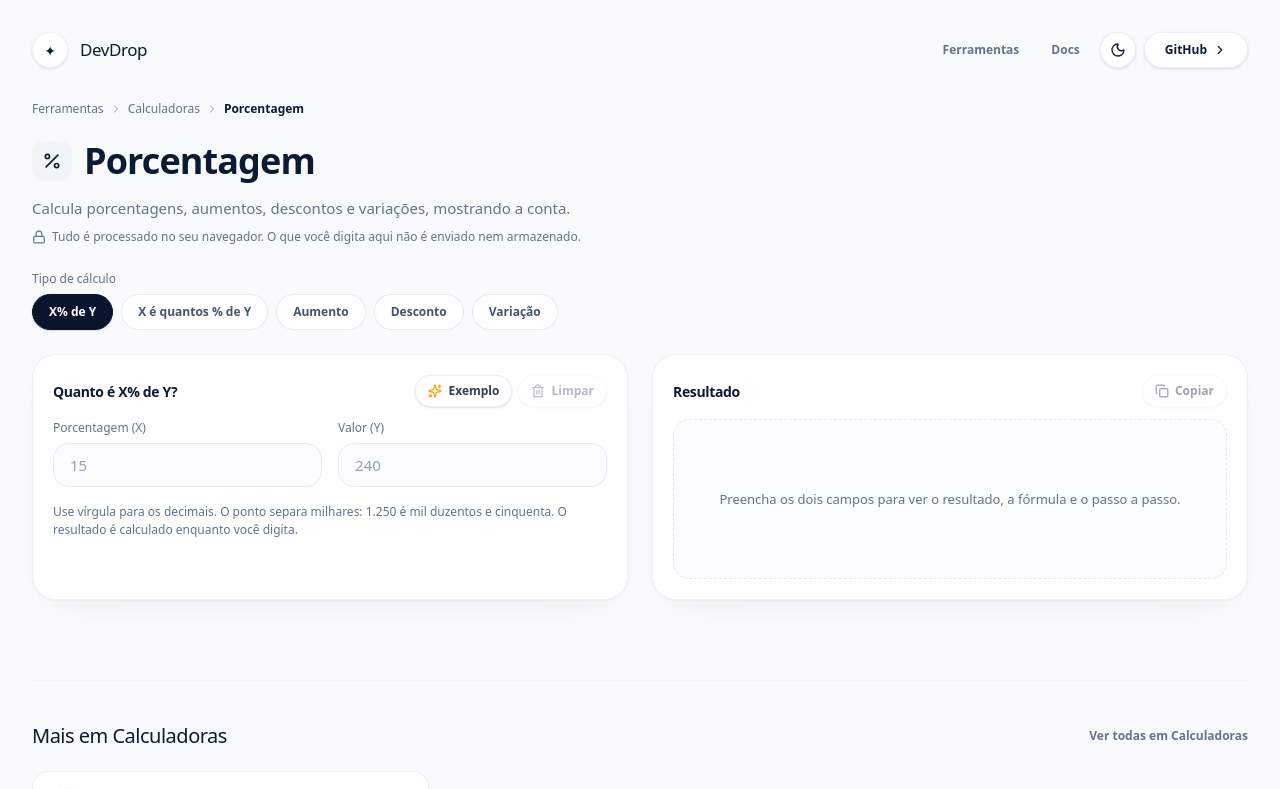
Test case: calculators › computes a percentage with steps, rejects bad input and clears
Type "12,5" into the field labelled "Porcentagem (X)".
click(188, 465); type("12,5")  # box [53, 443, 322, 487]
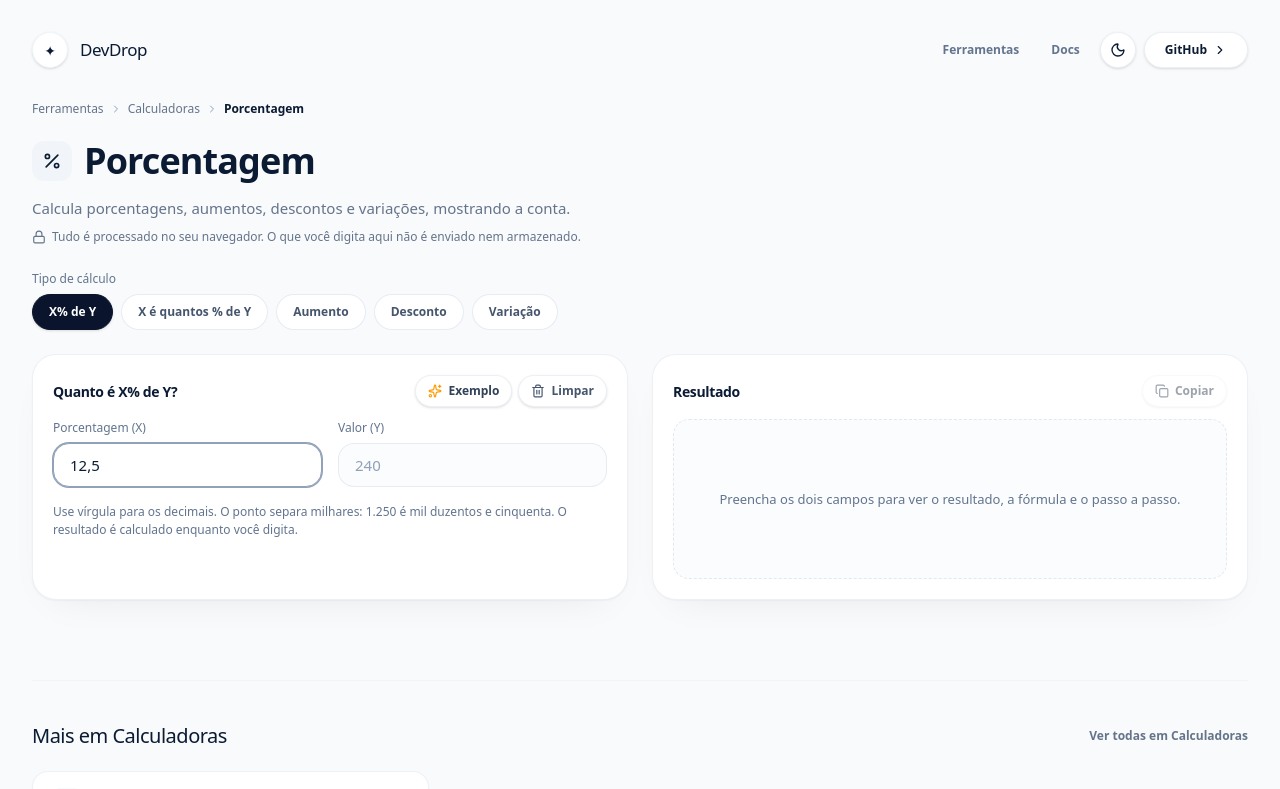
Type "80" into the field labelled "Valor (Y)".
click(472, 465); type("80")  # box [338, 443, 607, 487]
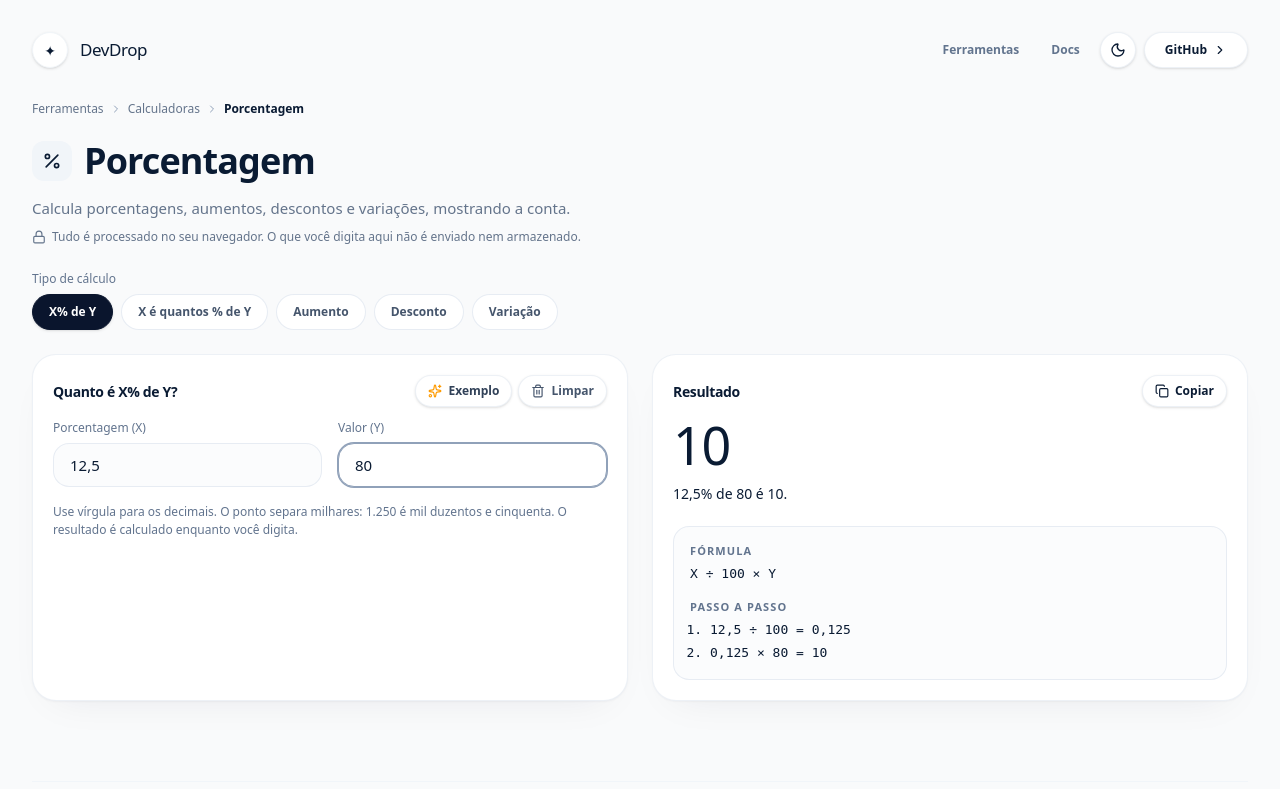
Result: the text "10" is shown at [673, 409, 730, 480]
Result: the text "X ÷ 100 × Y" is shown at [690, 566, 776, 581]
Replace the text in the field labelled "Valor (Y)" with "abc" at (472, 465), box [338, 443, 607, 487]
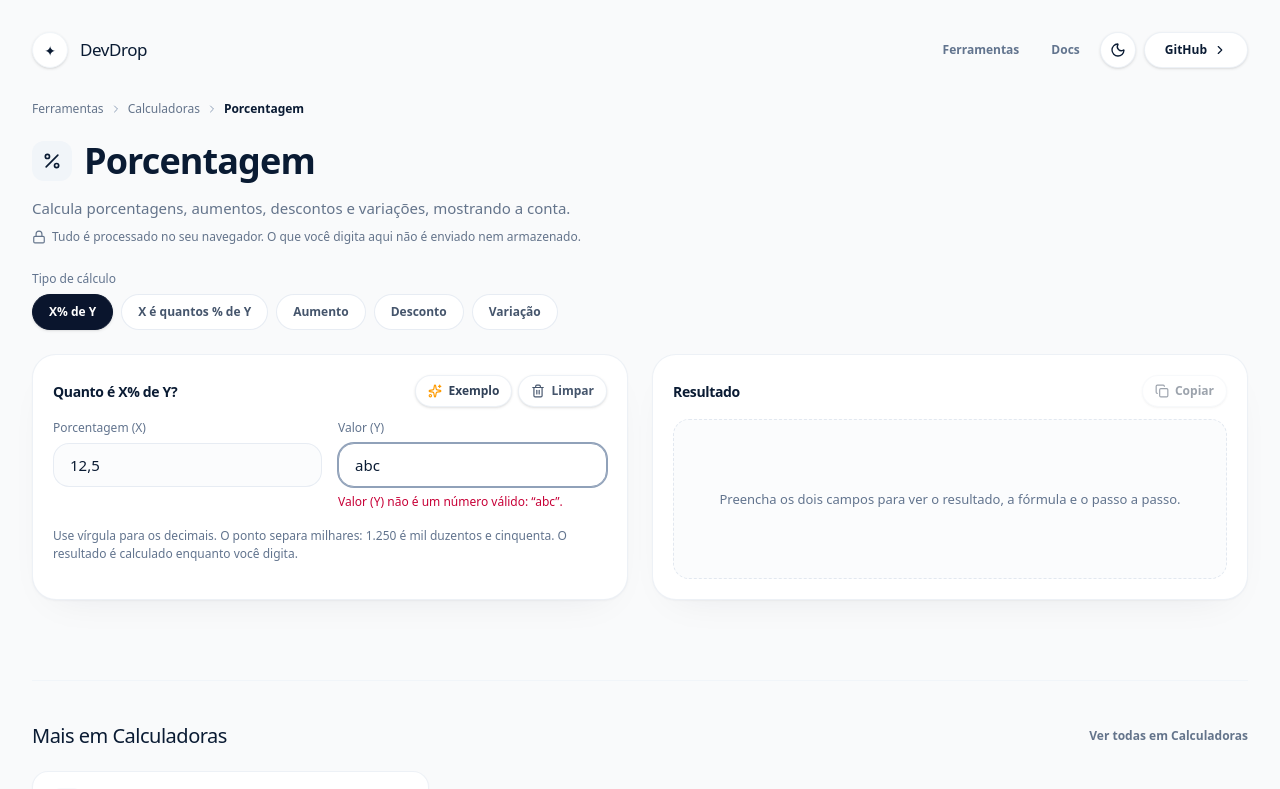
Result: the message shows "não é um número válido" at [338, 493, 563, 510]
Click the button "Limpar".
click(563, 391)  # box [518, 375, 607, 407]
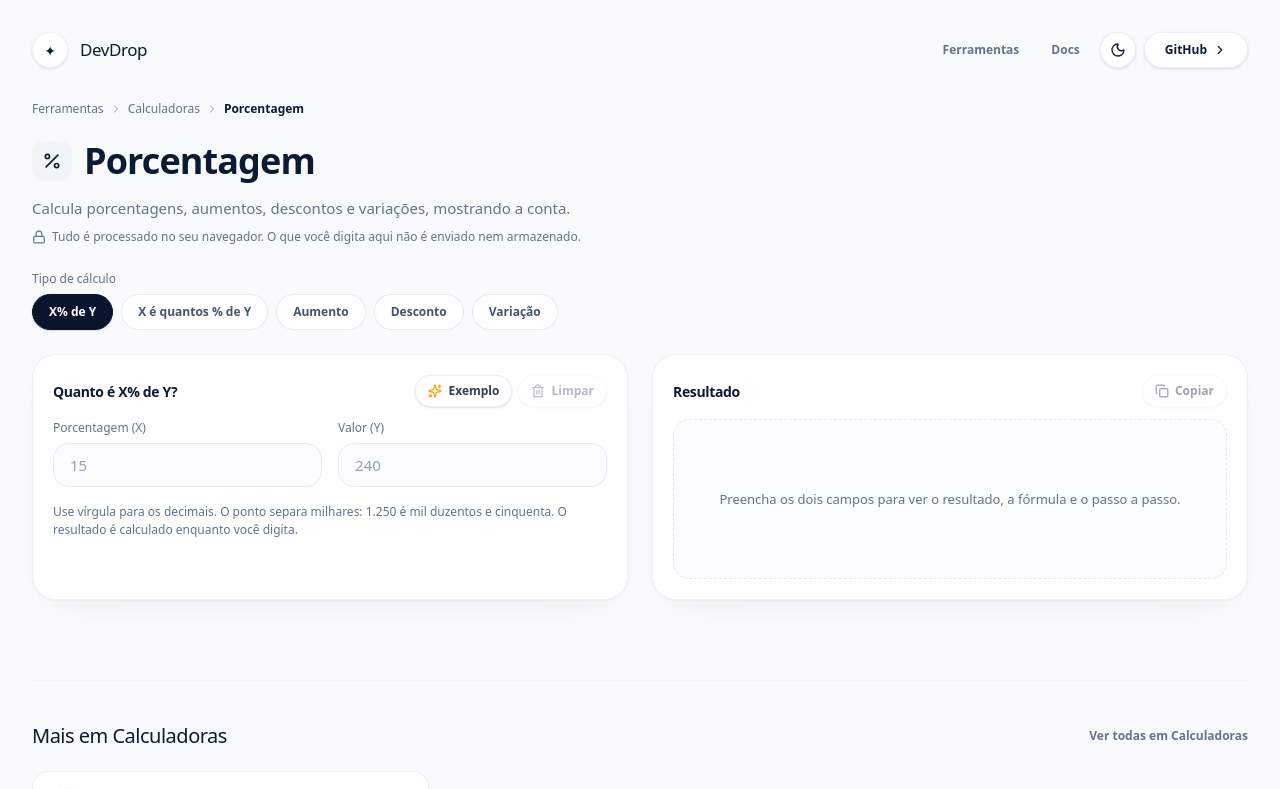
Result: the field labelled "Porcentagem (X)" is empty at [53, 443, 322, 487]
